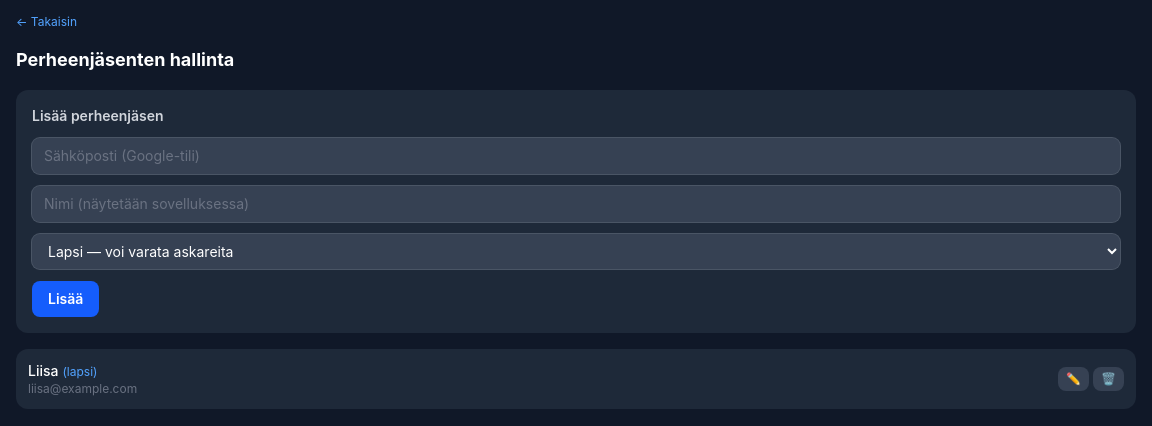
UsersManagerView › prevents duplicate emails
Type "liisa@example.com" into the field with placeholder "Sähköposti (Google-tili)" at (576, 156), box top-left (32, 138), bottom-right (1120, 174)
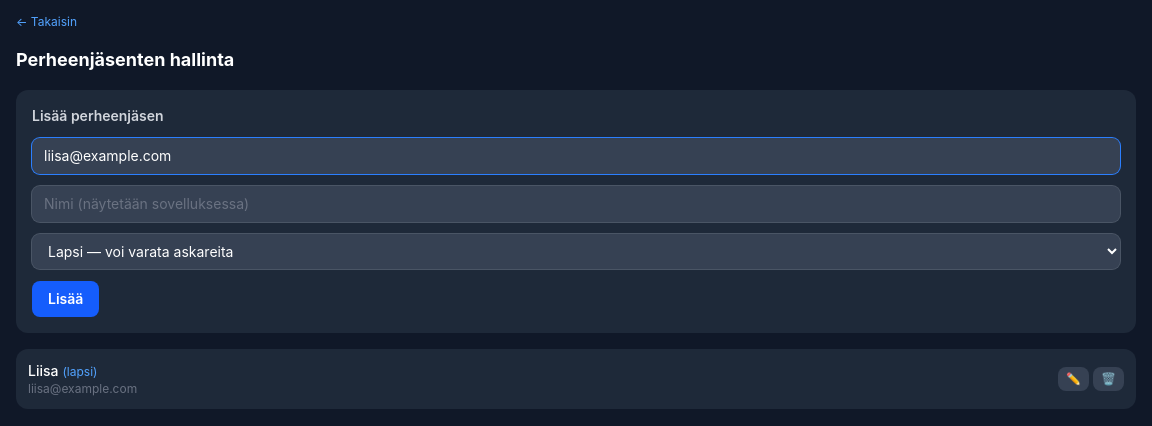
Type "Liisa2" into the field with placeholder "Nimi (näytetään sovelluksessa)" at (576, 204), box top-left (32, 186), bottom-right (1120, 222)
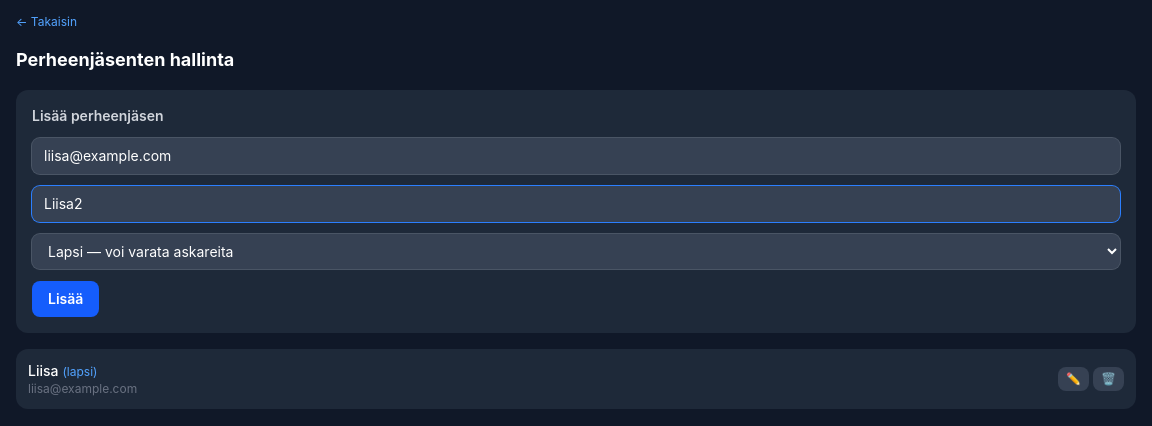
Click the button "Lisää" at (66, 299), box top-left (32, 281), bottom-right (99, 317)
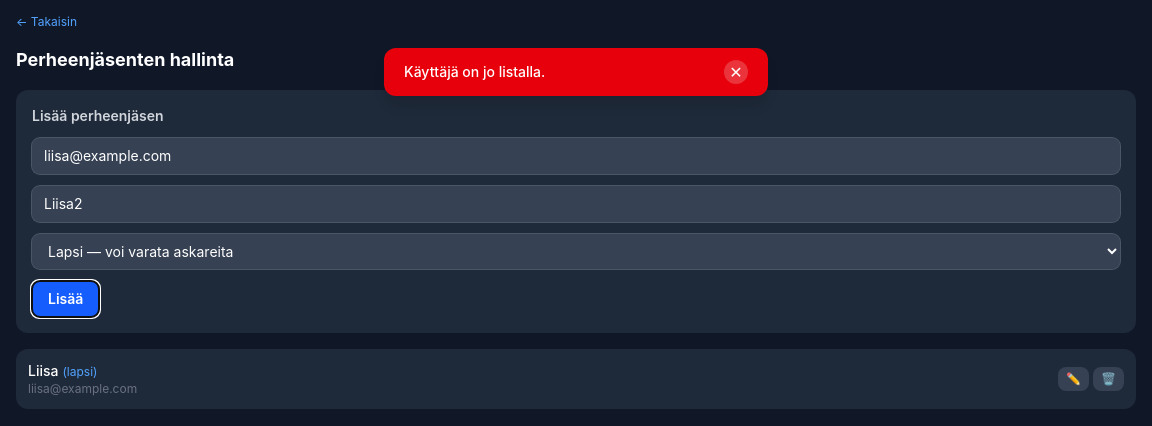
Check: the text "Käyttäjä on jo listalla." is shown, box top-left (404, 63), bottom-right (545, 80)
